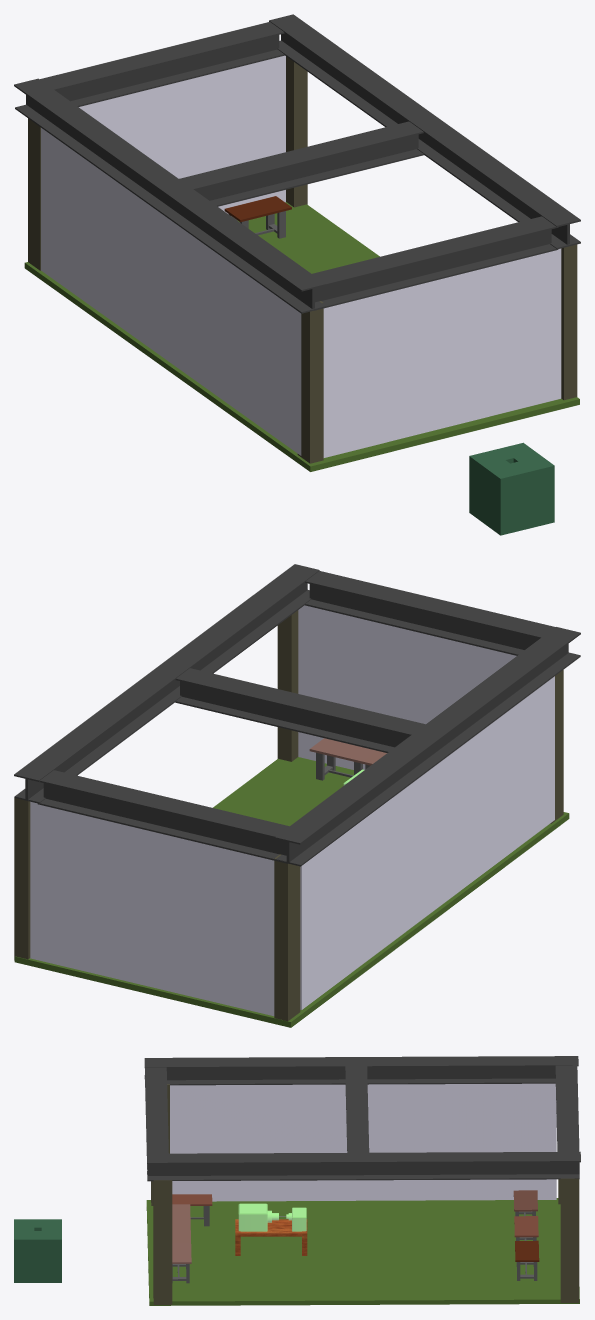
File: Lab_Torsion.gltf
3 renders of one model, top to bottom at view 1: azimuth 30°, elevation 25°; view 2: azimuth 150°, elevation 25°; view 3: azimuth 270°, elevation 25°, orthographic. The views are drawn at different scales.
Parts seen in each view (by area): view 1: Vigas_Amarre, Cubo, Cubo.003, Cubo.002, Cubo.001, Cubo.008, Cubo.006, Cubo.007, Cubo.004, Cubo.005, Mesa.Lab3; view 2: Vigas_Amarre, Cubo.002, Cubo, Cubo.003, Cubo.001, Cubo.005, Cubo.004, Cubo.007, mesa5, Cubo.006; view 3: Cubo.001, Cubo, Vigas_Amarre, Cubo.008, Cubo.007, Cubo.004, mesa_compresion, baseMaquina, Mesa.Lab3, mesa2, mesa5, Mesa.Lab1 (+4 smaller).
Boxes of the visible parts, box(x1,y1,x2,y2) form: Vigas_Amarre: box(14, 14, 580, 313); Cubo: box(41, 128, 301, 455); Cubo.003: box(323, 248, 561, 457); Cubo.002: box(79, 55, 285, 214); Cubo.001: box(24, 202, 579, 471); Cubo.008: box(469, 442, 554, 535); Cubo.006: box(297, 301, 323, 463); Cubo.007: box(561, 244, 577, 400); Cubo.004: box(286, 56, 307, 207); Cubo.005: box(28, 118, 40, 270); Mesa.Lab3: box(224, 196, 291, 238); Vigas_Amarre: box(14, 564, 580, 866); Cubo.002: box(30, 801, 274, 1016); Cubo: box(300, 676, 554, 1009); Cubo.003: box(298, 605, 516, 769); Cubo.001: box(14, 757, 569, 1027); Cubo.005: box(274, 854, 300, 1021); Cubo.004: box(14, 797, 30, 960); Cubo.007: box(277, 610, 298, 761); mesa5: box(309, 738, 376, 780); Cubo.006: box(550, 670, 563, 823); Cubo.001: box(146, 1198, 579, 1305); Cubo: box(170, 1083, 556, 1201); Vigas_Amarre: box(144, 1056, 580, 1181); Cubo.008: box(14, 1219, 61, 1282); Cubo.007: box(153, 1180, 172, 1304); Cubo.004: box(560, 1178, 579, 1302); mesa_compresion: box(235, 1219, 307, 1255); baseMaquina: box(238, 1203, 267, 1231); Mesa.Lab3: box(515, 1240, 539, 1280); mesa2: box(172, 1194, 212, 1226); mesa5: box(172, 1243, 191, 1283); Mesa.Lab1: box(513, 1190, 537, 1216).
Size of the model in its own units: 10.57 by 7.45 by 23.58.
Materials: 26 (1 with a texture image).
